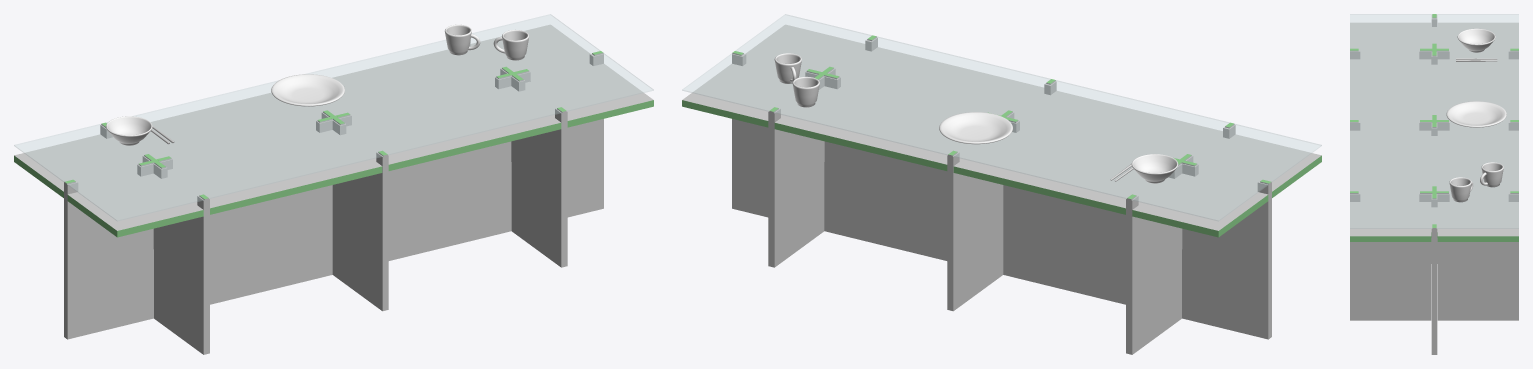
Rendered from 02-dining-set.glb.
The picture shows the model from 3 angles, left to right: view 1: azimuth 30°, elevation 25°; view 2: azimuth 150°, elevation 25°; view 3: azimuth 270°, elevation 25°; orthographic projection. The views are drawn at different scales.
Visible parts, largest first — view 1: 通长台面｜3000 × 1000 mm, 宴席长桌玻璃｜5.26 mm, 通长纵板｜一体穿榫, 左横撑｜十字插接, 右横撑｜十字插接, 中横撑｜十字插接, 02B 公用浅盘｜浅凹盘心与宽口沿, 02A 白瓷饭碗｜开口碗腹与圈足, 02C 开口杯身2, 02C 开口杯身1; view 2: 通长台面｜3000 × 1000 mm, 宴席长桌玻璃｜5.26 mm, 通长纵板｜一体穿榫, 右横撑｜十字插接, 左横撑｜十字插接, 中横撑｜十字插接, 02B 公用浅盘｜浅凹盘心与宽口沿, 02A 白瓷饭碗｜开口碗腹与圈足, 02C 开口杯身1, 02C 开口杯身2; view 3: 宴席长桌玻璃｜5.26 mm, 通长台面｜3000 × 1000 mm, 右横撑｜十字插接, 通长纵板｜一体穿榫, 02B 公用浅盘｜浅凹盘心与宽口沿, 02A 白瓷饭碗｜开口碗腹与圈足, 左横撑｜十字插接, 中横撑｜十字插接, 02C 开口杯身2, 02C 开口杯身1.
Part boxes in pixels (x1,y1,x2,y2): 通长台面｜3000 × 1000 mm: (14, 24, 653, 237); 宴席长桌玻璃｜5.26 mm: (14, 14, 653, 221); 通长纵板｜一体穿榫: (64, 51, 603, 339); 左横撑｜十字插接: (100, 122, 209, 354); 右横撑｜十字插接: (468, 41, 567, 267); 中横撑｜十字插接: (321, 110, 388, 311); 02B 公用浅盘｜浅凹盘心与宽口沿: (271, 74, 344, 106); 02A 白瓷饭碗｜开口碗腹与圈足: (106, 116, 152, 145); 02C 开口杯身2: (502, 29, 529, 60); 02C 开口杯身1: (444, 24, 471, 55); 通长台面｜3000 × 1000 mm: (682, 24, 1321, 237); 宴席长桌玻璃｜5.26 mm: (682, 14, 1321, 221); 通长纵板｜一体穿榫: (732, 51, 1271, 339); 右横撑｜十字插接: (768, 35, 877, 267); 左横撑｜十字插接: (1126, 122, 1235, 354); 中横撑｜十字插接: (947, 79, 1056, 311); 02B 公用浅盘｜浅凹盘心与宽口沿: (939, 112, 1012, 144); 02A 白瓷饭碗｜开口碗腹与圈足: (1131, 154, 1178, 183); 02C 开口杯身1: (792, 76, 819, 107); 02C 开口杯身2: (774, 53, 801, 83); 宴席长桌玻璃｜5.26 mm: (1350, 14, 1518, 228); 通长台面｜3000 × 1000 mm: (1350, 22, 1518, 241); 右横撑｜十字插接: (1350, 191, 1518, 320); 通长纵板｜一体穿榫: (1431, 14, 1437, 354); 02B 公用浅盘｜浅凹盘心与宽口沿: (1446, 101, 1506, 127); 02A 白瓷饭碗｜开口碗腹与圈足: (1457, 28, 1495, 52); 左横撑｜十字插接: (1350, 48, 1518, 63); 中横撑｜十字插接: (1350, 119, 1518, 135); 02C 开口杯身2: (1449, 177, 1471, 202); 02C 开口杯身1: (1481, 162, 1503, 187).
Size of the model in its own units: 3 by 0.9485 by 1.
